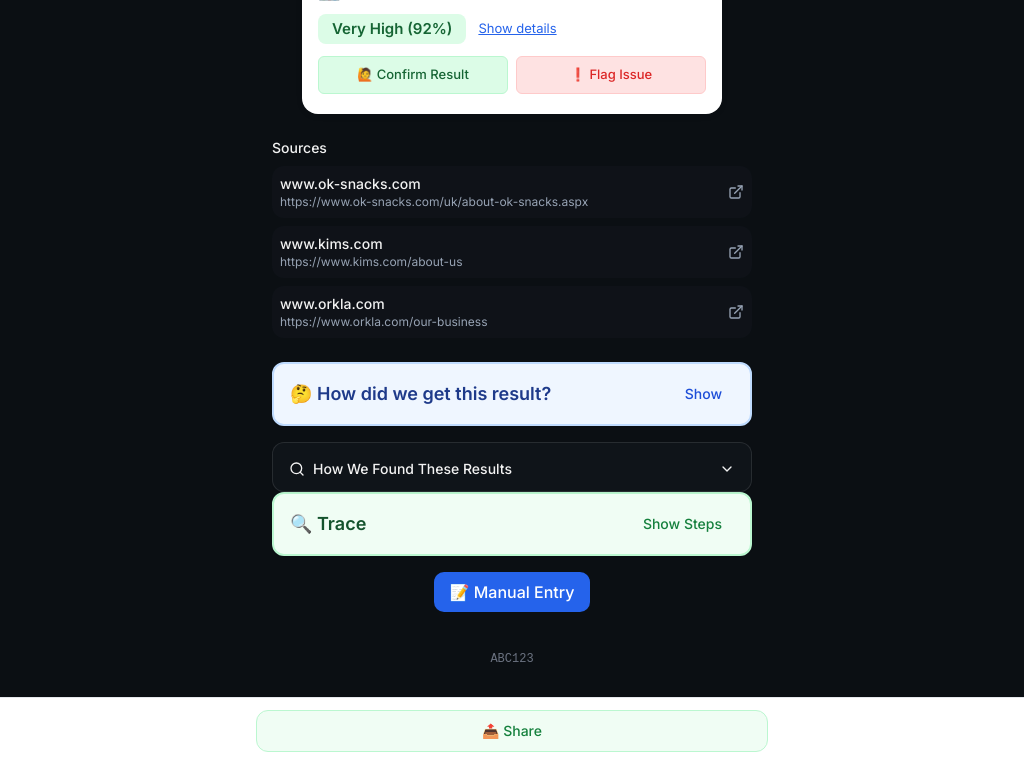
it: ProductResultScreen E2E Tests › Trace Visualization Accuracy › toggles trace visibility correctly
(page scrolled)
expect the text "manual_entry" is not shown: met
# Click to show trace
Click the button "Show Steps": (682, 524) [631,510,734,538]
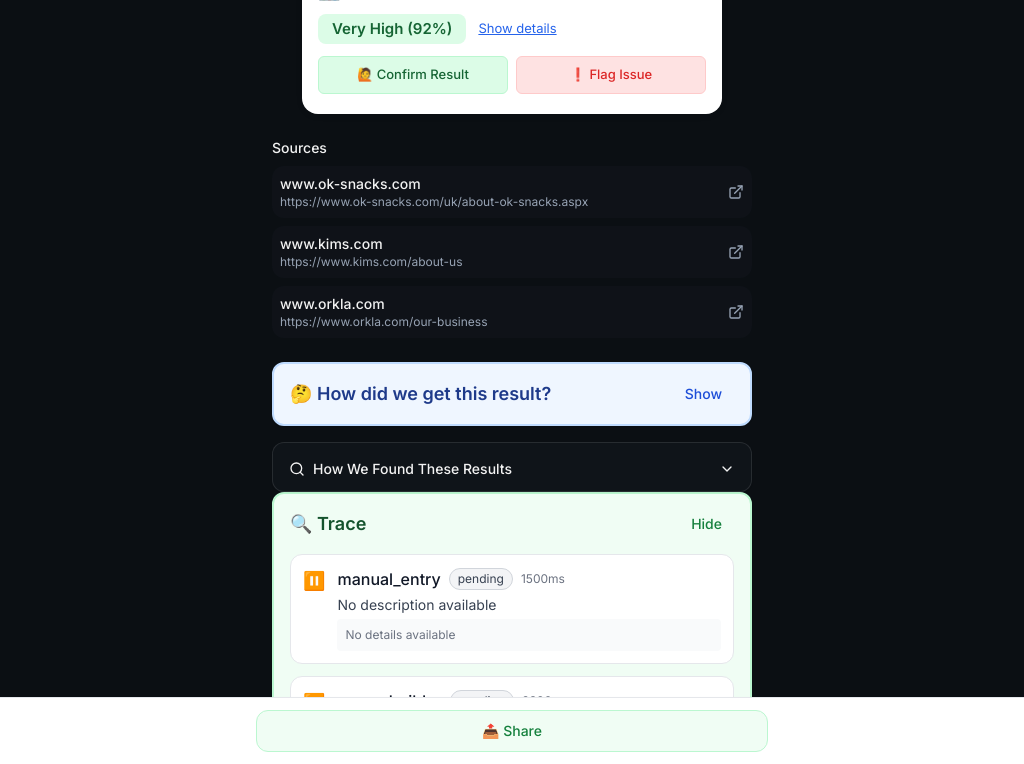
expect the heading "manual_entry" is shown: met, box [338,566,441,590]
expect the button "Hide" is shown: met
# Click to hide trace
Click the button "Hide": (707, 524) [679,510,734,538]
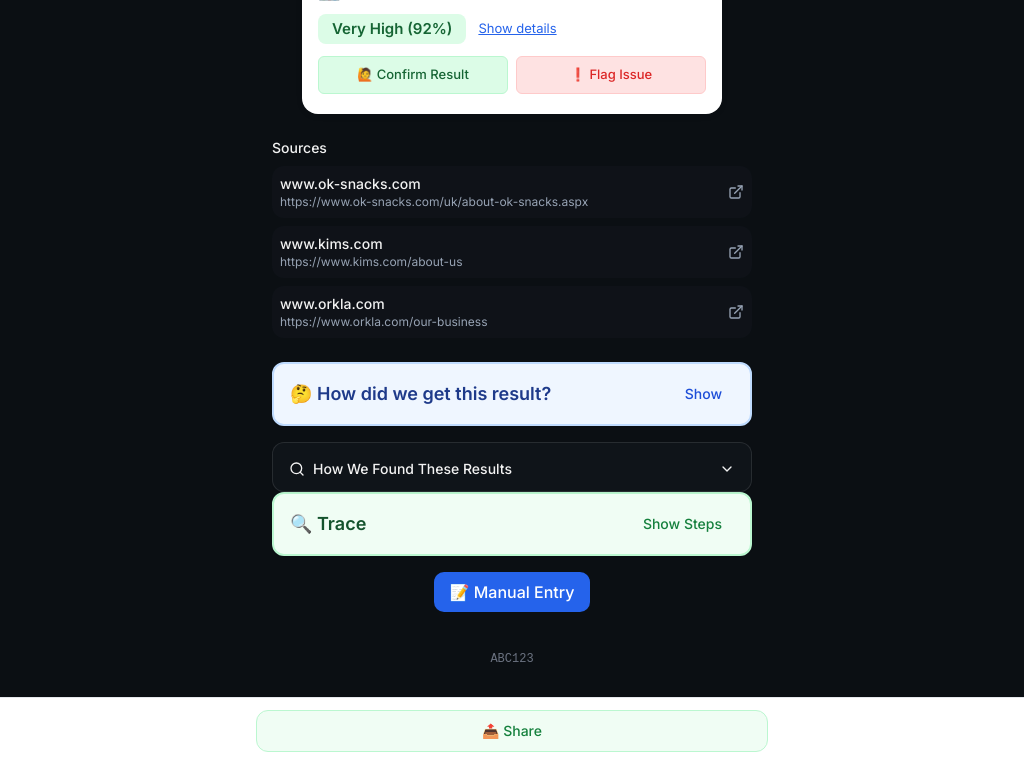
expect the heading "manual_entry" is gone: met
